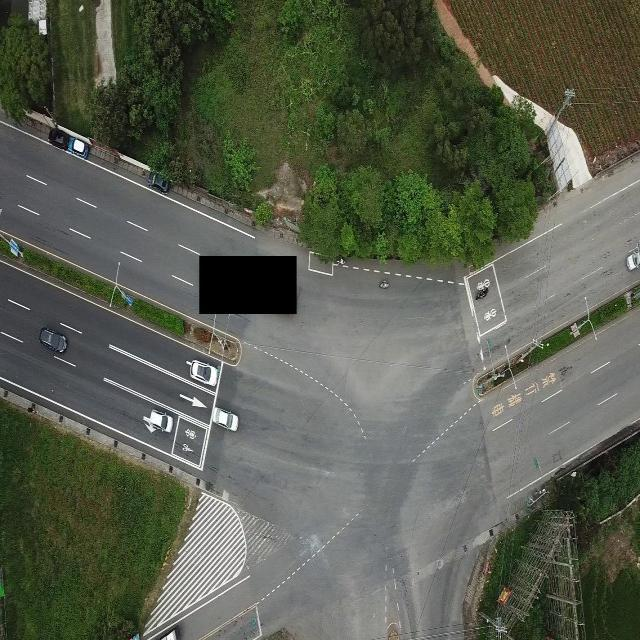bike: (475, 279, 489, 299), (377, 276, 389, 290)
car: (186, 359, 218, 387), (142, 408, 174, 434), (68, 124, 90, 160), (39, 326, 67, 353), (212, 407, 239, 432), (147, 170, 173, 193), (48, 125, 66, 152), (626, 241, 639, 271)
